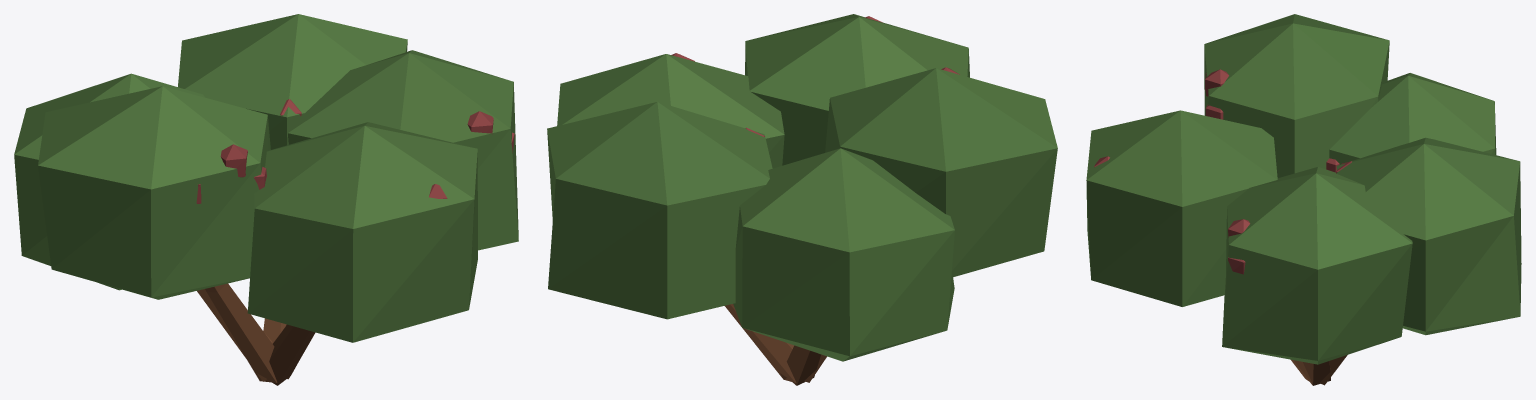
The model's file is Plant_Common_BerryThicket_001_LOD1.glb.
3 views of the same model, side by side, from view 1: azimuth 30°, elevation 25°; view 2: azimuth 150°, elevation 25°; view 3: azimuth 270°, elevation 25° (orthographic). The views are drawn at different scales.
Visible parts, largest first — view 1: Plant_Common_BerryThicket_001_LOD1; view 2: Plant_Common_BerryThicket_001_LOD1; view 3: Plant_Common_BerryThicket_001_LOD1.
Boxes of the visible parts, x1,y1,x2,y2 form: Plant_Common_BerryThicket_001_LOD1: (14,14,518,385); Plant_Common_BerryThicket_001_LOD1: (547,14,1057,385); Plant_Common_BerryThicket_001_LOD1: (1086,14,1521,385).
Bounding box in the file's own units: 2.06 × 1.35 × 1.76.
